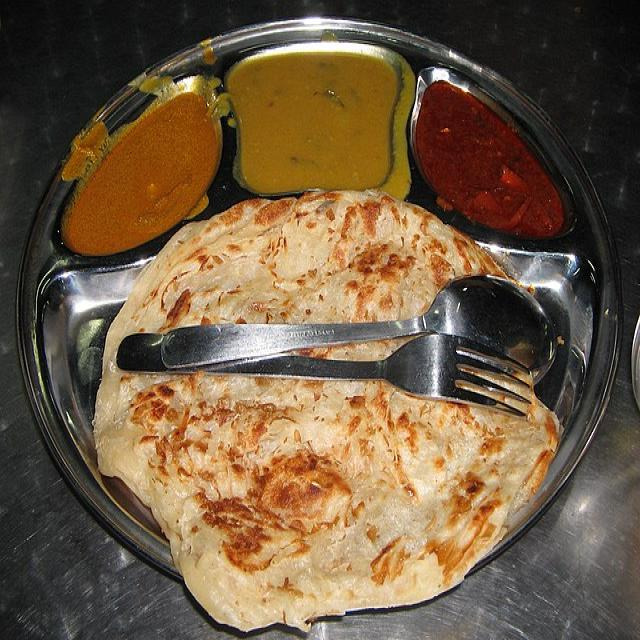Paratha: (68, 206, 541, 623)
